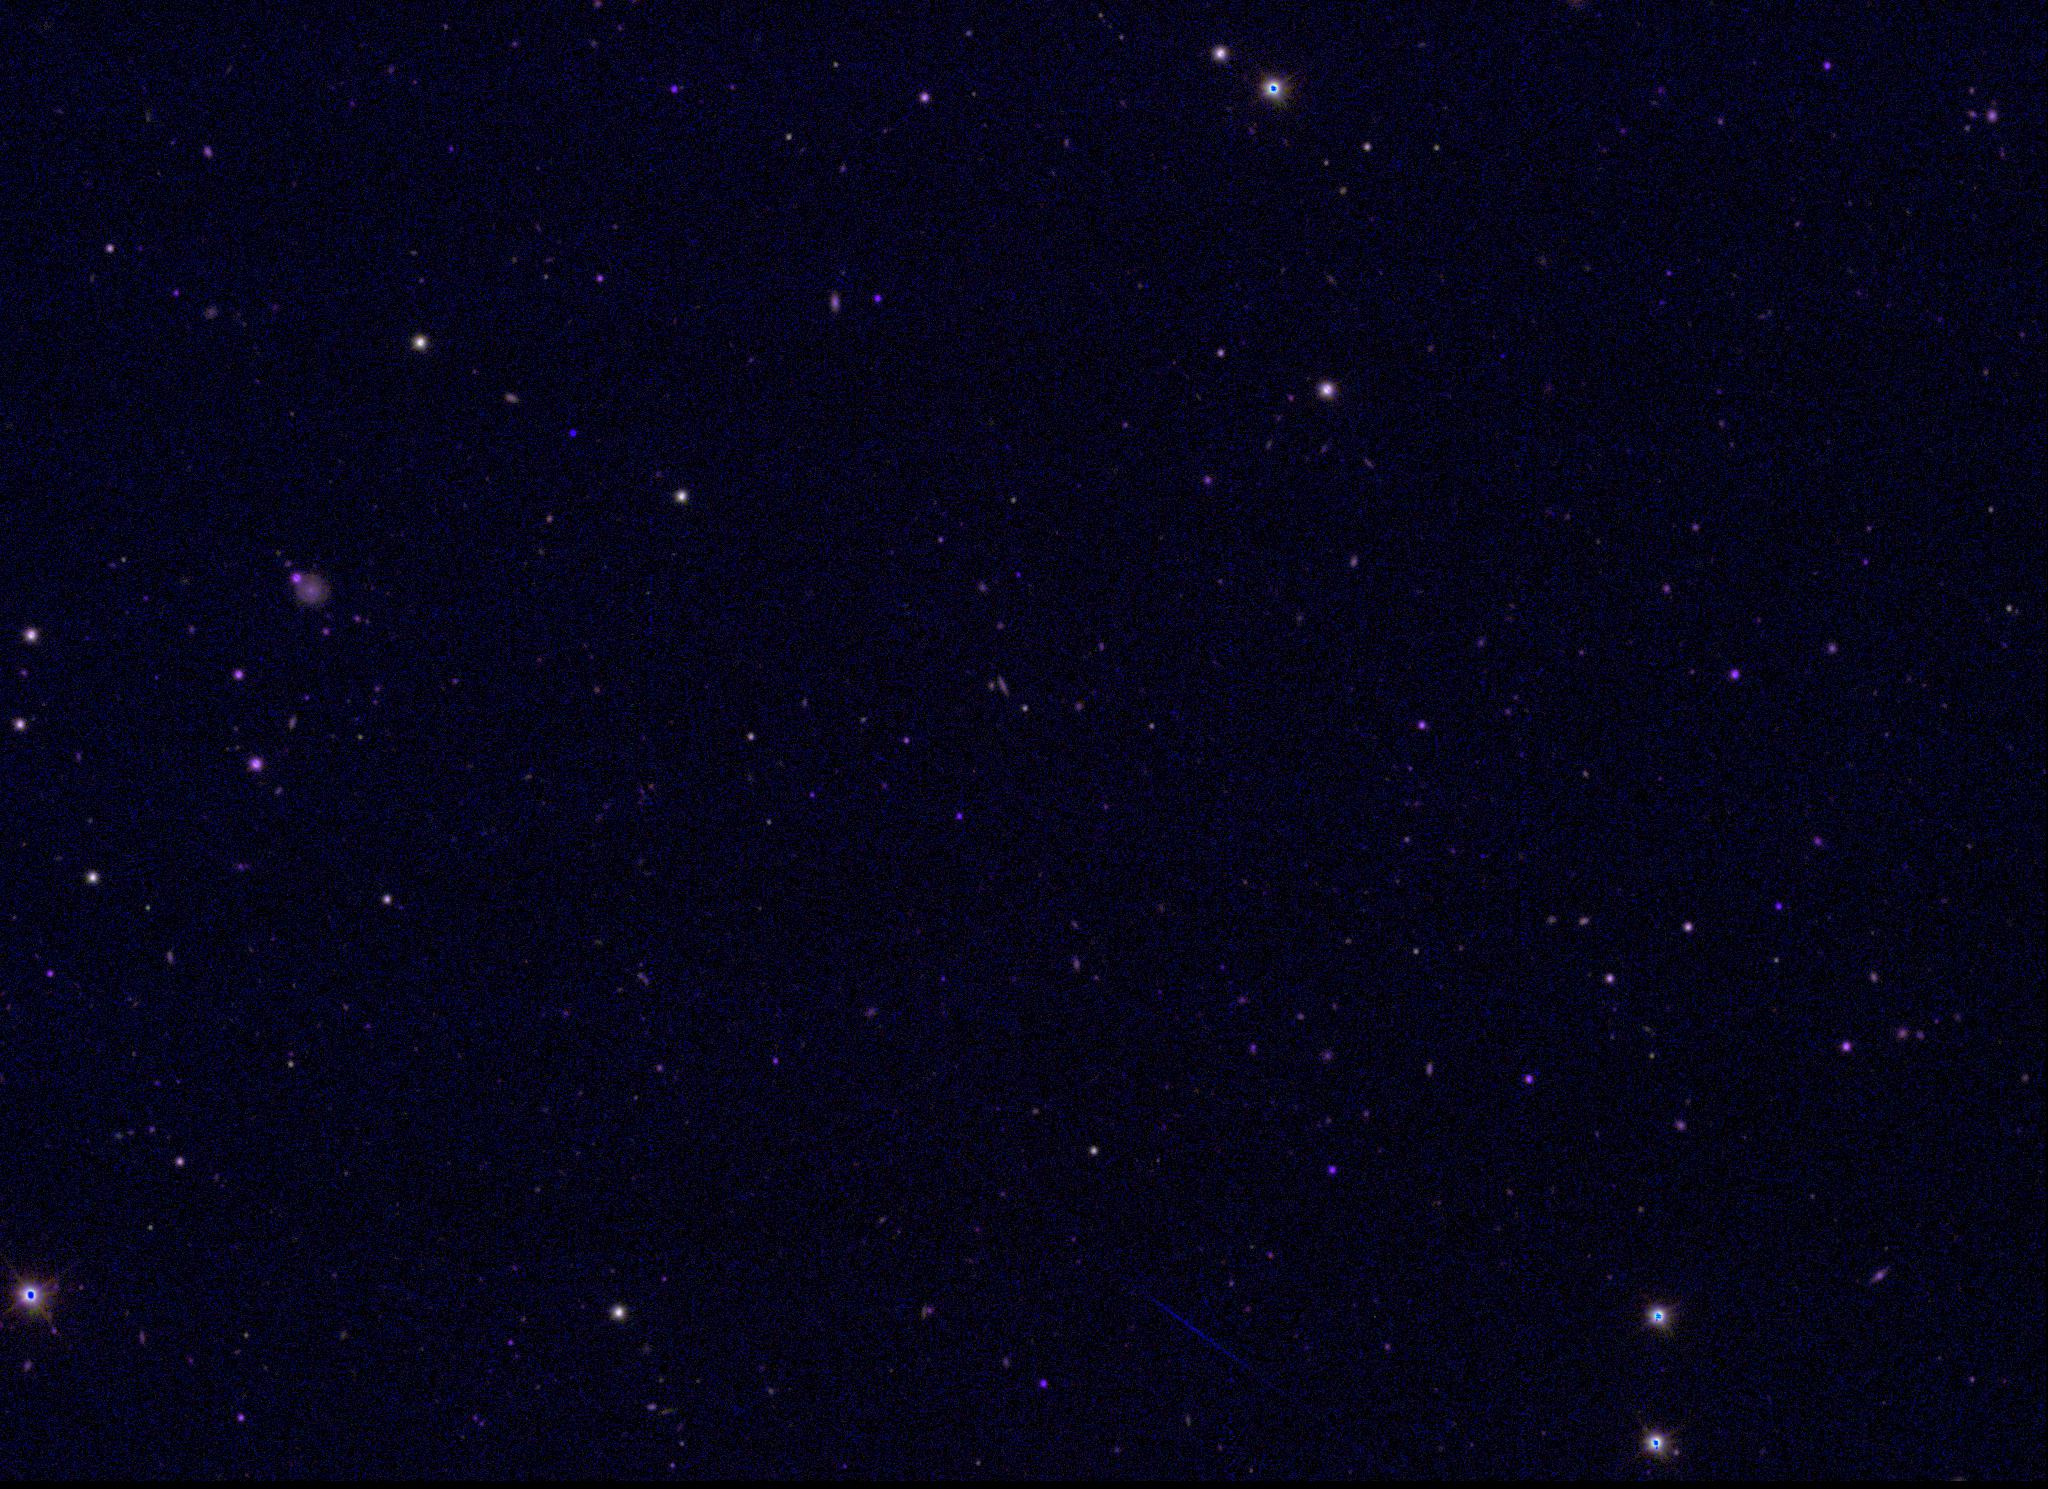L: (566, 426, 580, 441)
